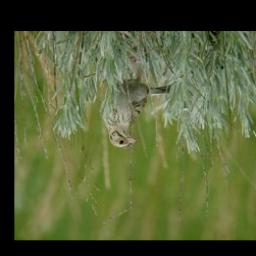Sparrow: (96, 49, 175, 153)
